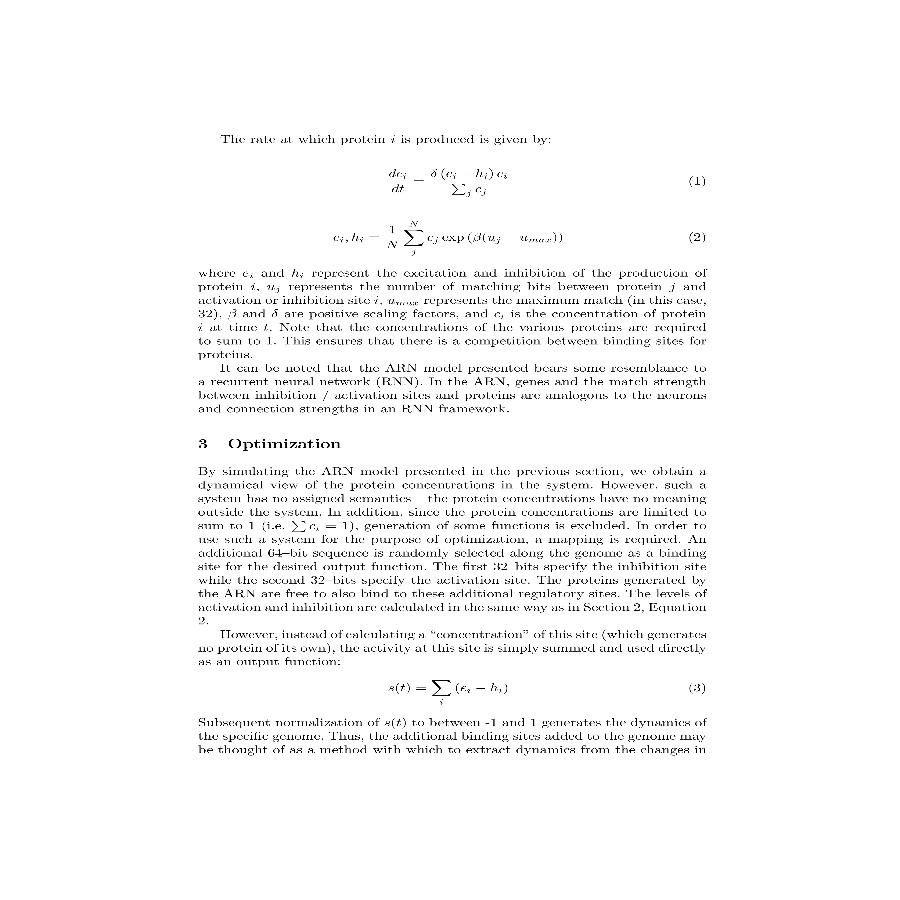eq: (331, 218, 563, 260), (384, 163, 510, 199), (387, 673, 511, 706)
